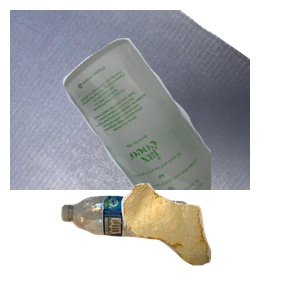cardboard: (10, 10, 250, 190)
glass: (60, 36, 300, 216)
plastic: (59, 193, 241, 300)
trash: (119, 181, 300, 300)
